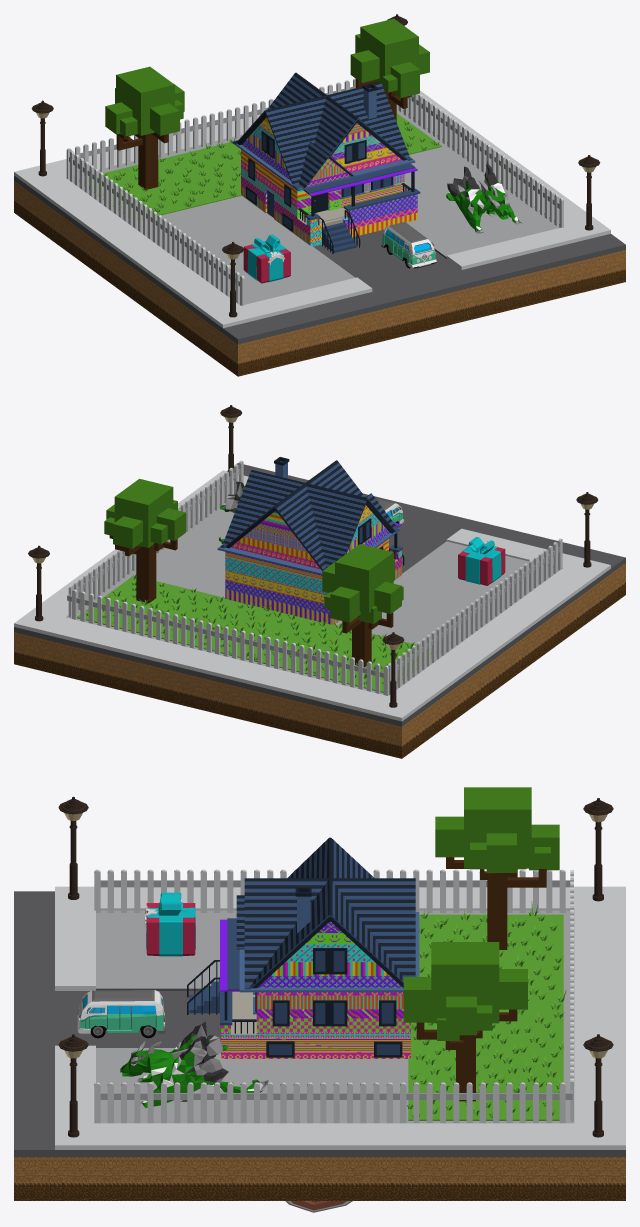
3 views of the same model, one above another, from view 1: azimuth 30°, elevation 25°; view 2: azimuth 150°, elevation 25°; view 3: azimuth 270°, elevation 25° (orthographic). The views are drawn at different scales.
Visible parts, largest first — view 1: Cube.004, Cube.676, ANIMAL_DRAGON, OBJRANDOM_GIANT_PRESENT, VEHICLES_VAN; view 2: Cube.004, Cube.676, OBJRANDOM_GIANT_PRESENT; view 3: Cube.004, Cube.676, ANIMAL_DRAGON, VEHICLES_VAN, OBJRANDOM_GIANT_PRESENT.
Boxes of the visible parts, x1,y1,x2,y2 form: Cube.004: (14, 14, 625, 376); Cube.676: (232, 72, 420, 253); ANIMAL_DRAGON: (446, 161, 521, 233); OBJRANDOM_GIANT_PRESENT: (243, 234, 290, 283); VEHICLES_VAN: (381, 222, 436, 268); Cube.004: (14, 405, 625, 758); Cube.676: (217, 457, 404, 624); OBJRANDOM_GIANT_PRESENT: (458, 537, 505, 585); Cube.004: (14, 787, 625, 1200); Cube.676: (187, 837, 419, 1058); ANIMAL_DRAGON: (120, 1021, 268, 1108); VEHICLES_VAN: (77, 990, 165, 1038); OBJRANDOM_GIANT_PRESENT: (144, 892, 195, 956).
Bounding box in the file's own units: 4000 × 2317 × 4000.
Materials: 42 (7 with a texture image).
